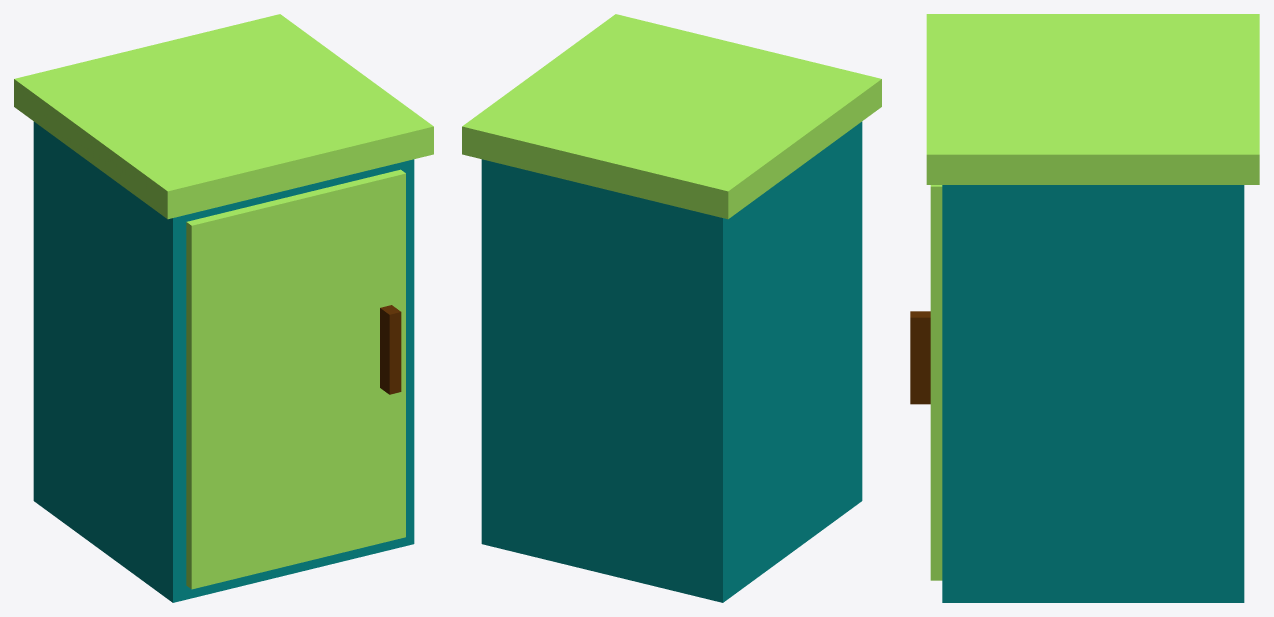
File: Cabinet 1.fbx
The picture shows the model from 3 angles, left to right: view 1: azimuth 30°, elevation 25°; view 2: azimuth 150°, elevation 25°; view 3: azimuth 270°, elevation 25°; orthographic projection. The views are drawn at different scales.
Parts seen in each view (by area): view 1: Model; view 2: Model; view 3: Model.
Boxes of the visible parts, box(x1,y1,x2,y2) form: Model: box(14, 14, 433, 602); Model: box(462, 14, 881, 602); Model: box(910, 14, 1259, 602).
Bounding box in the file's own units: 1204 × 1815 × 1264.
